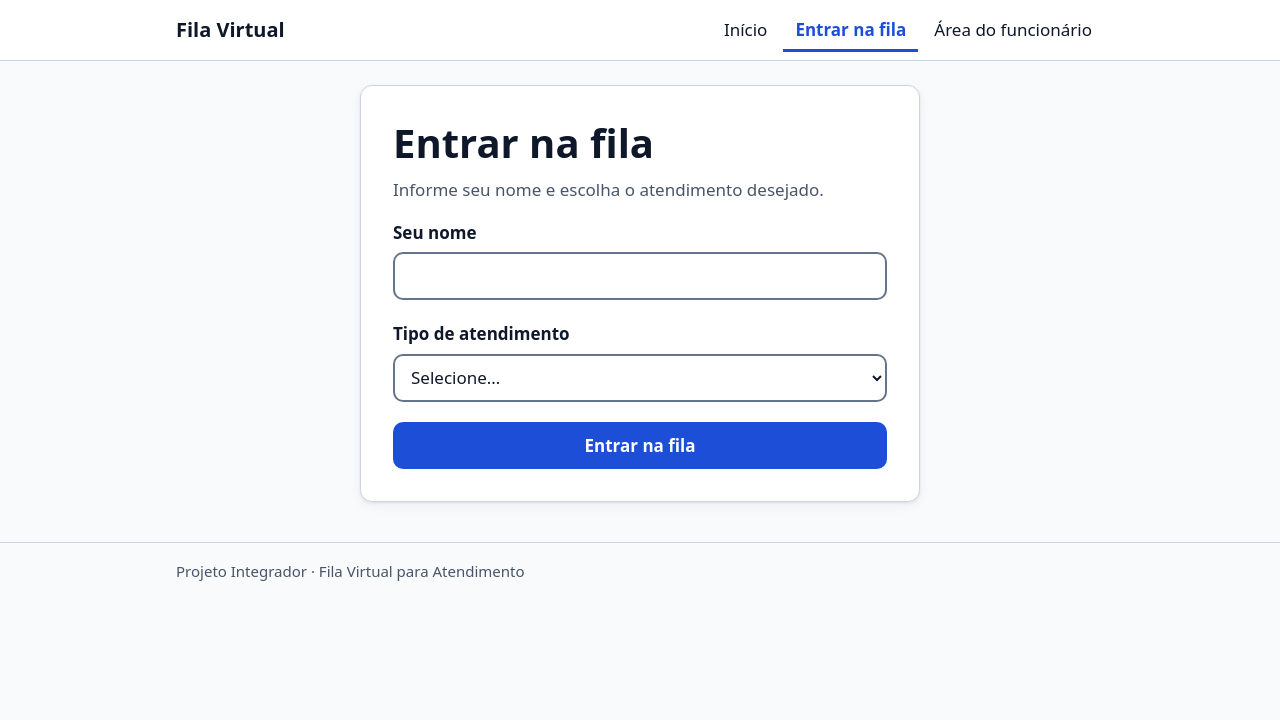
Test case: Entrar na fila (cliente, sem login) › trocar para um tipo sem preferencial desmarca a opção
Select "Atendimento Geral" in the dropdown labelled "Tipo de atendimento" at (640, 378), box [393,354,887,402]
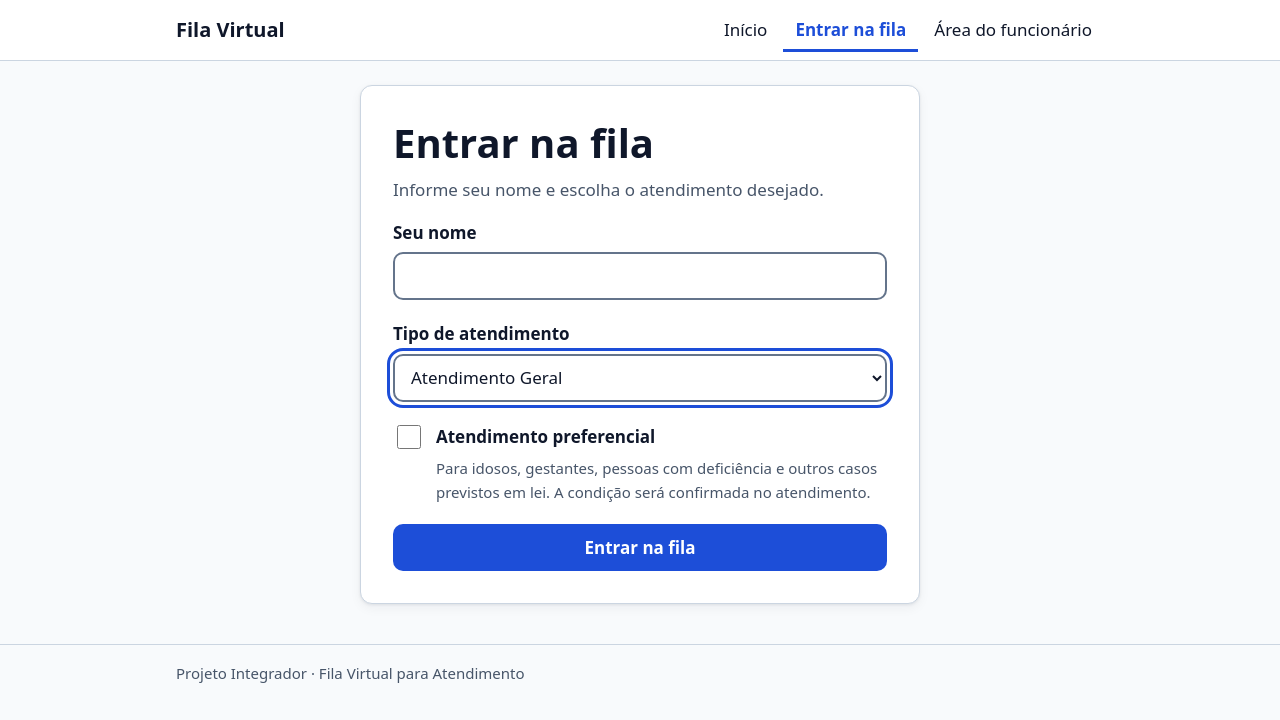
Click the checkbox labelled "Atendimento preferencial" at (409, 437), box [397,425,421,449]
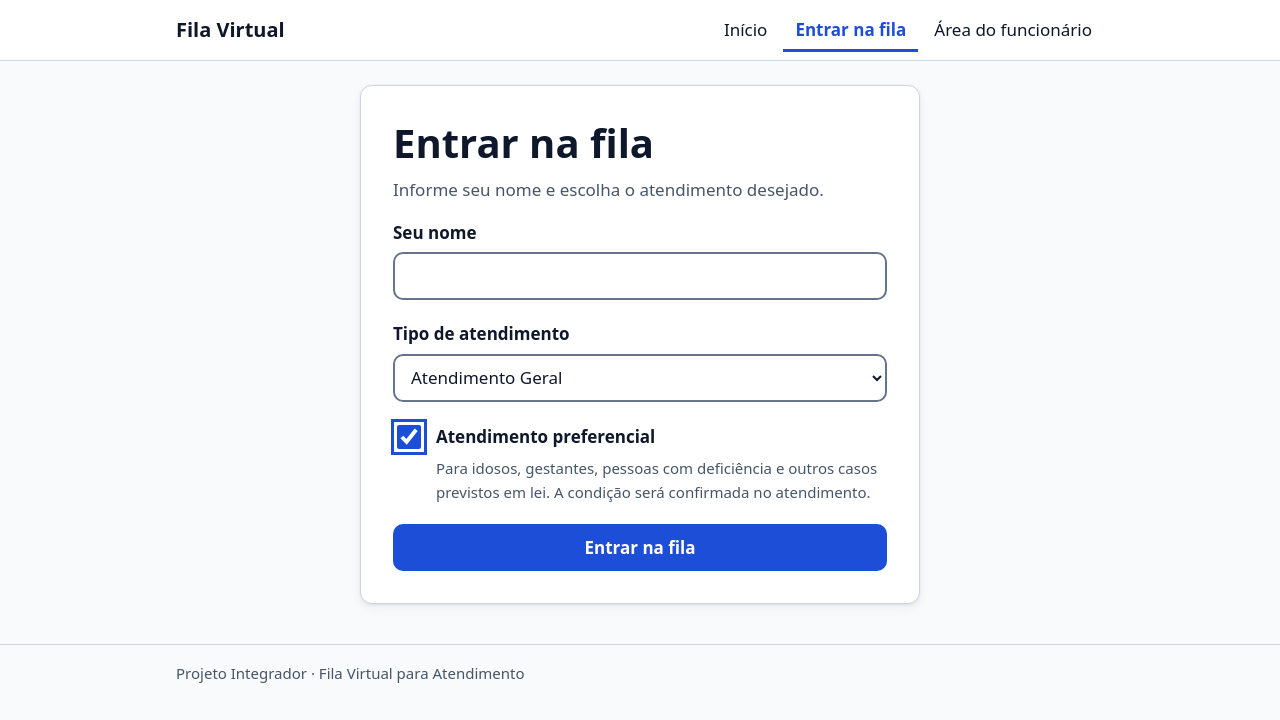
Select "Informações" in the dropdown labelled "Tipo de atendimento" at (640, 378), box [393,354,887,402]
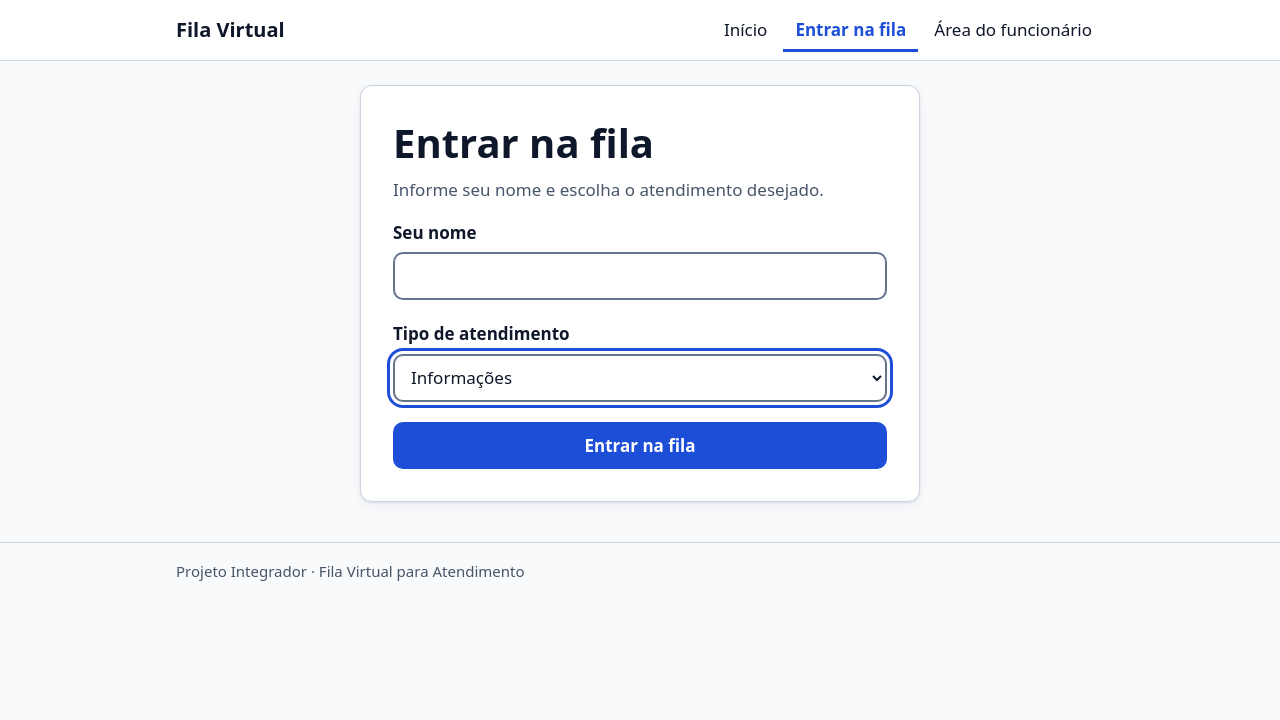
Select "Atendimento Geral" in the dropdown labelled "Tipo de atendimento" at (640, 378), box [393,354,887,402]
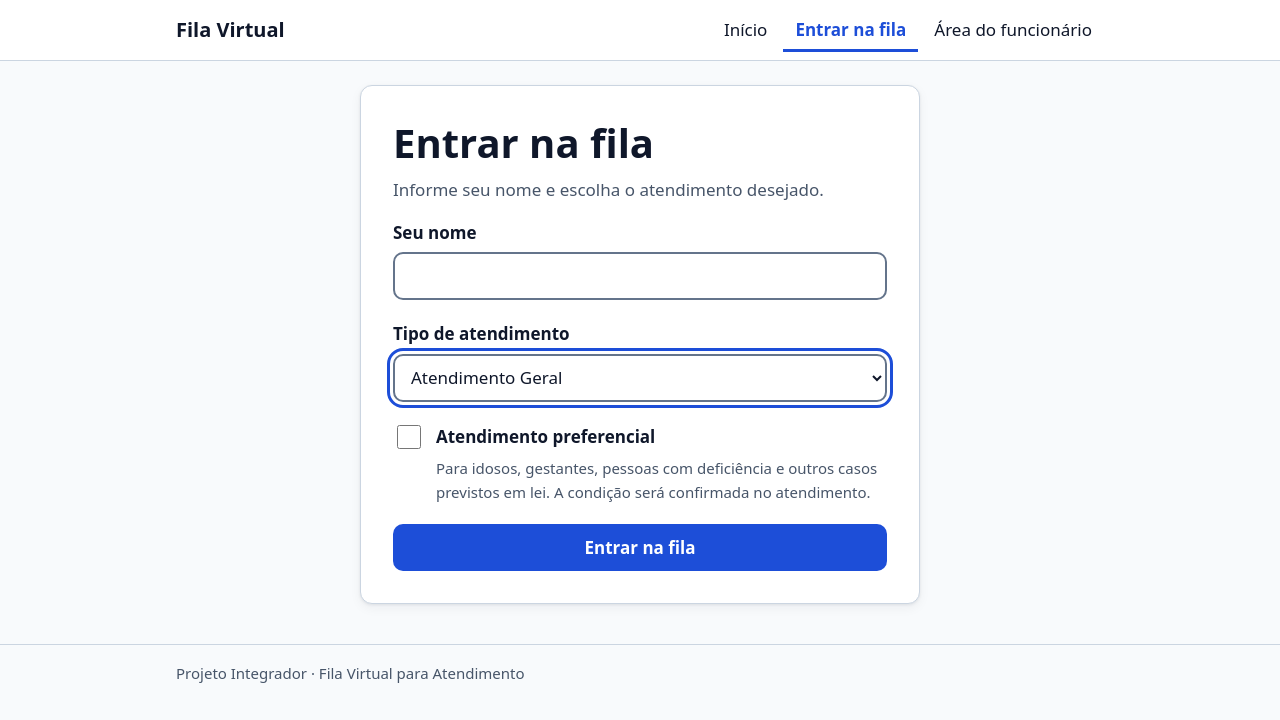
expect the checkbox labelled "Atendimento preferencial" is not checked: met, box [397,425,421,449]
